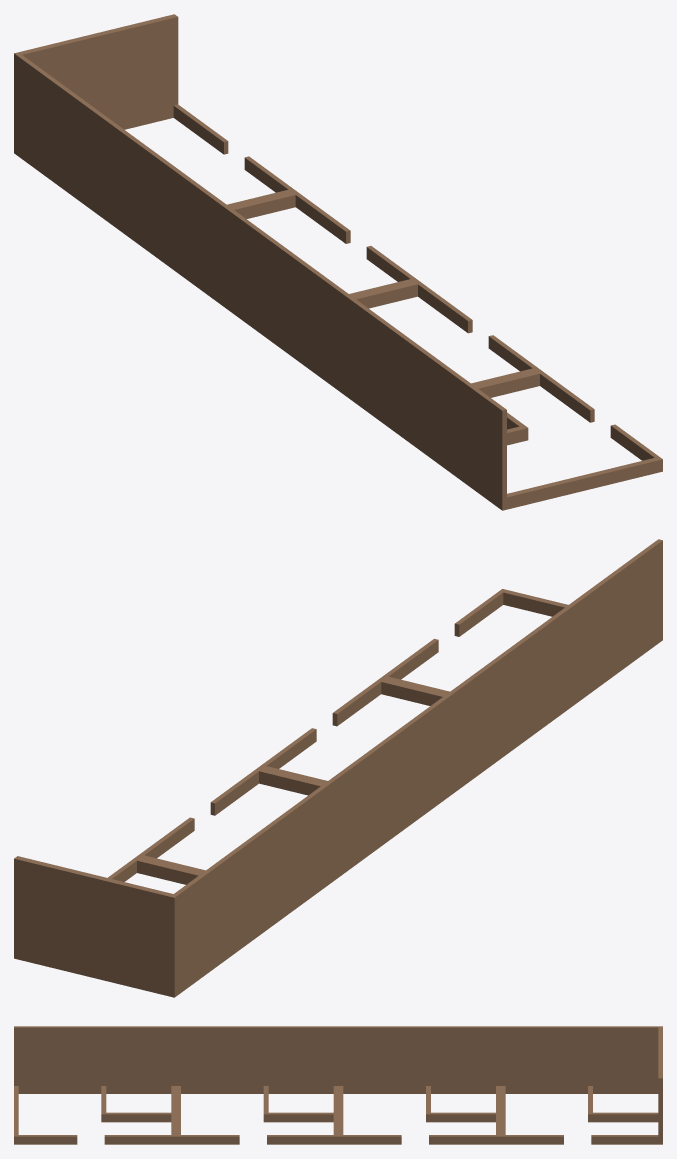
The model's file is RoomSkeleton 1.fbx.
The picture shows the model from 3 angles, top to bottom: view 1: azimuth 30°, elevation 25°; view 2: azimuth 150°, elevation 25°; view 3: azimuth 270°, elevation 25°; orthographic projection. The views are drawn at different scales.
Parts seen in each view (by area): view 1: Walls.002; view 2: Walls.002; view 3: Walls.002.
Part boxes in pixels (box(x1,y1,x2,y2)): Walls.002: box(14, 14, 662, 510); Walls.002: box(14, 539, 662, 997); Walls.002: box(14, 1026, 662, 1144).
Size of the model in its own units: 537 by 319 by 2829.
